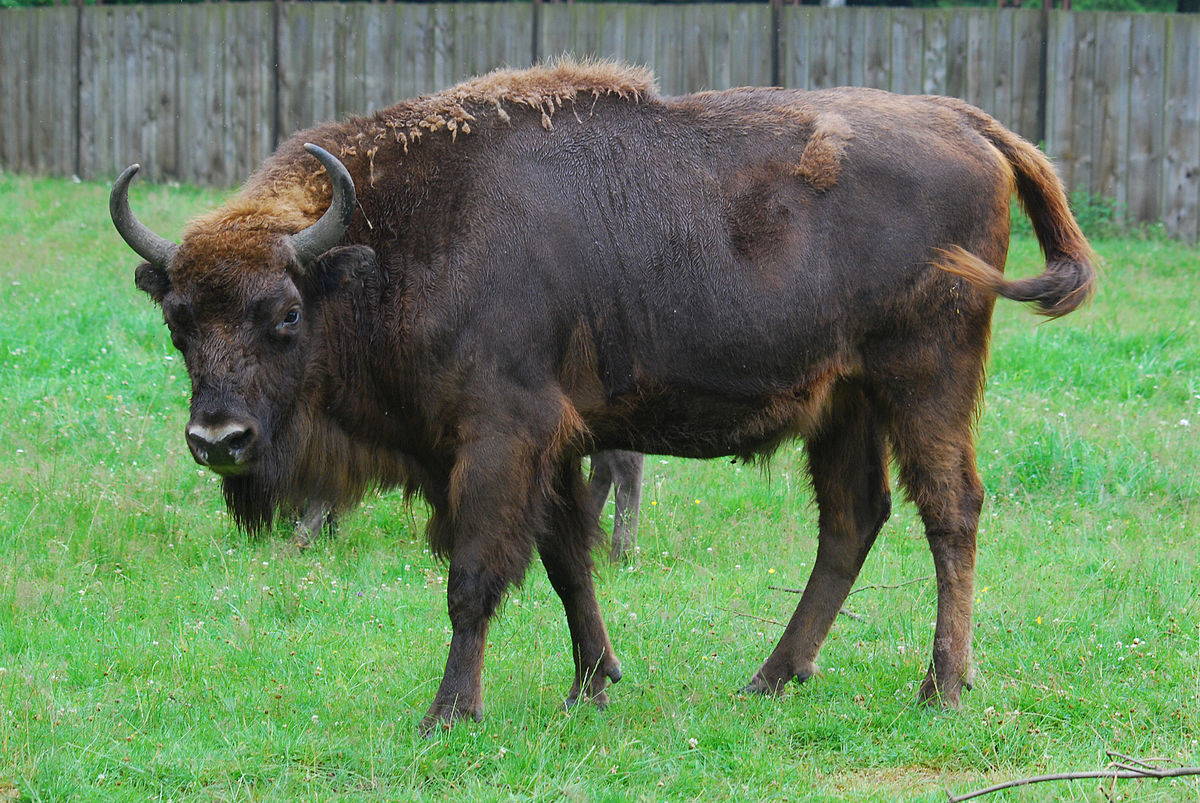zubr: (89, 43, 1139, 750)
